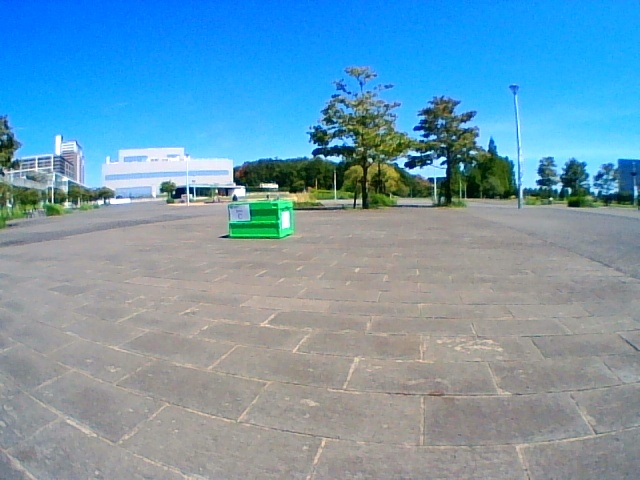green_box: (228, 201, 294, 239)
tag: (230, 205, 249, 221)
